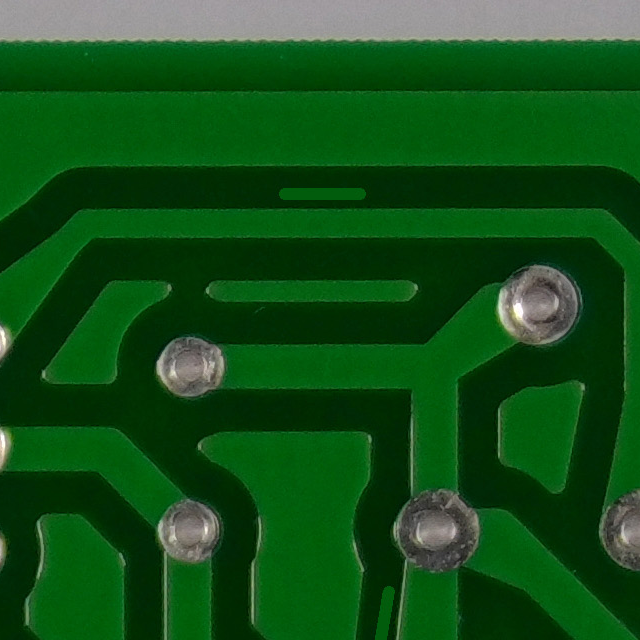spurious_copper: (256, 160, 385, 219), (351, 573, 415, 640)
